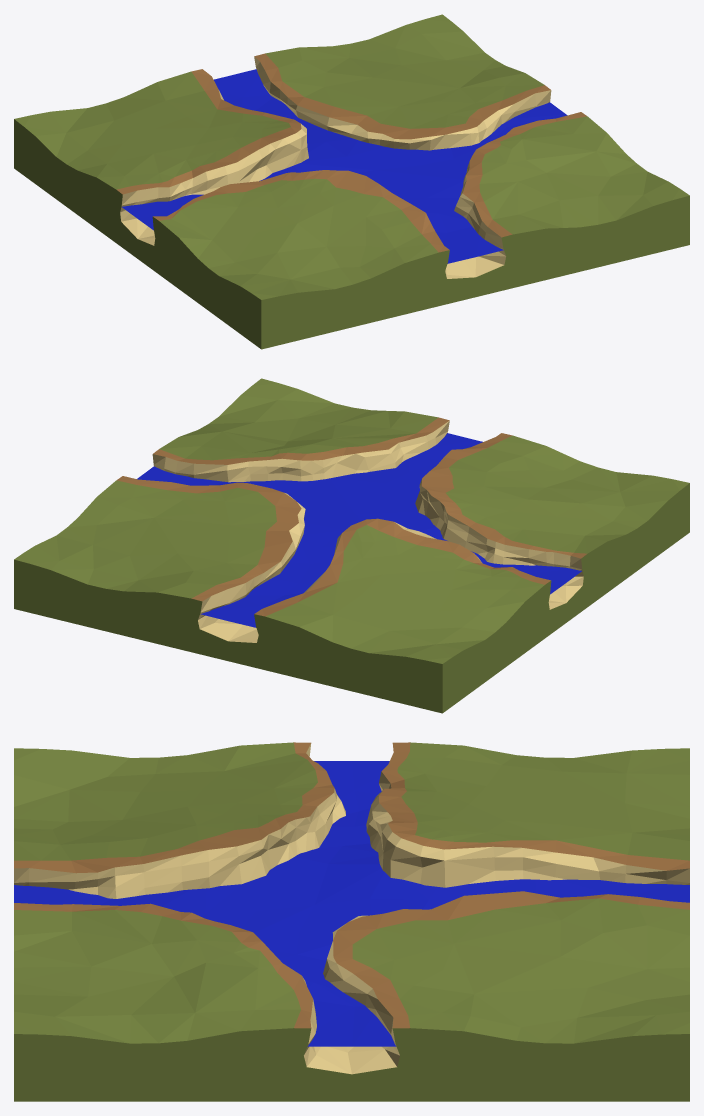
The model's file is Terrian_River_Int_Flat-01.fbx.
3 views of the same model, one above another, from view 1: azimuth 30°, elevation 25°; view 2: azimuth 150°, elevation 25°; view 3: azimuth 270°, elevation 25° (orthographic). The views are drawn at different scales.
Visible parts, largest first — view 1: Terrian_River_Int_Flat-01; view 2: Terrian_River_Int_Flat-01; view 3: Terrian_River_Int_Flat-01.
Part boxes in pixels (x1,y1,x2,y2): Terrian_River_Int_Flat-01: [14, 14, 689, 349]; Terrian_River_Int_Flat-01: [14, 378, 689, 713]; Terrian_River_Int_Flat-01: [14, 742, 689, 1101].
Size of the model in its own units: 3600 by 584 by 3600.
